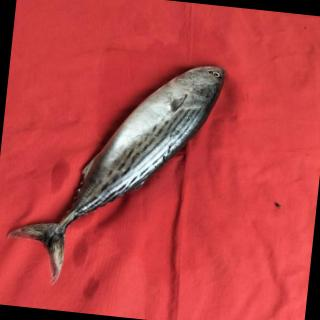Ikan: (6, 34, 242, 287)
